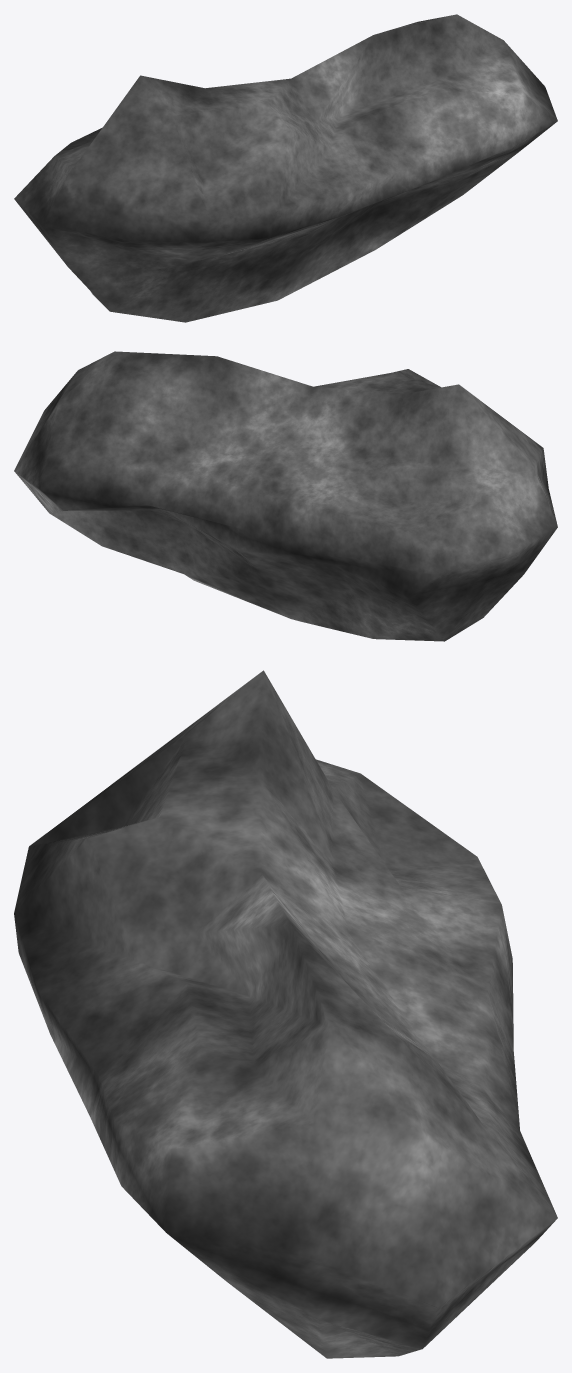
Rendered from asteroid_2.glb.
3 renders of one model, top to bottom at view 1: azimuth 30°, elevation 25°; view 2: azimuth 150°, elevation 25°; view 3: azimuth 270°, elevation 25°, orthographic. The views are drawn at different scales.
Parts seen in each view (by area): view 1: asteroid_model_2.001; view 2: asteroid_model_2.001; view 3: asteroid_model_2.001.
Boxes of the visible parts, x1,y1,x2,y2 form: asteroid_model_2.001: [14, 14, 557, 322]; asteroid_model_2.001: [14, 351, 557, 641]; asteroid_model_2.001: [14, 670, 557, 1358].
Size of the model in its own units: 2.21 by 1.11 by 1.12.
Materials: 1 (1 with a texture image).
